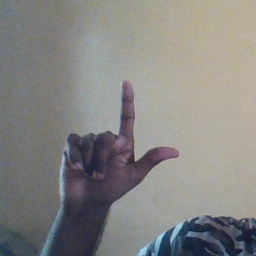L: (59, 81, 180, 208)
